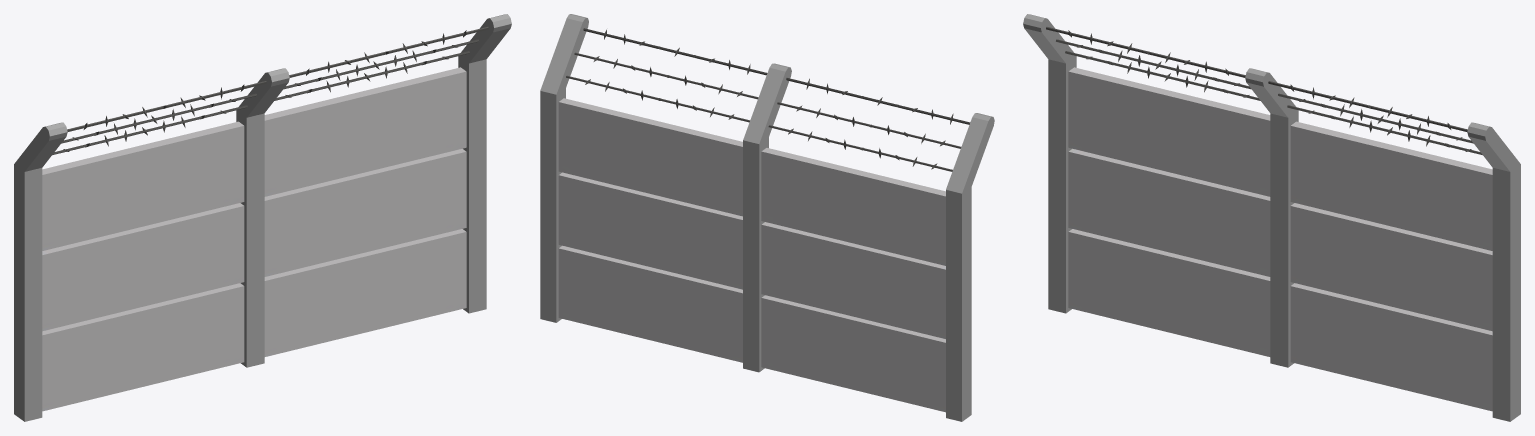
File: fence6.fbx
3 views of the same model, side by side, from view 1: azimuth 30°, elevation 25°; view 2: azimuth 150°, elevation 25°; view 3: azimuth 330°, elevation 25° (orthographic). The views are drawn at different scales.
Visible parts, largest first — view 1: mesh; view 2: mesh; view 3: mesh.
Part boxes in pixels (x1,y1,x2,y2): mesh: (14,14,511,421); mesh: (540,14,994,421); mesh: (1023,14,1520,421).
Bounding box in the file's own units: 483 × 310 × 64.82.
